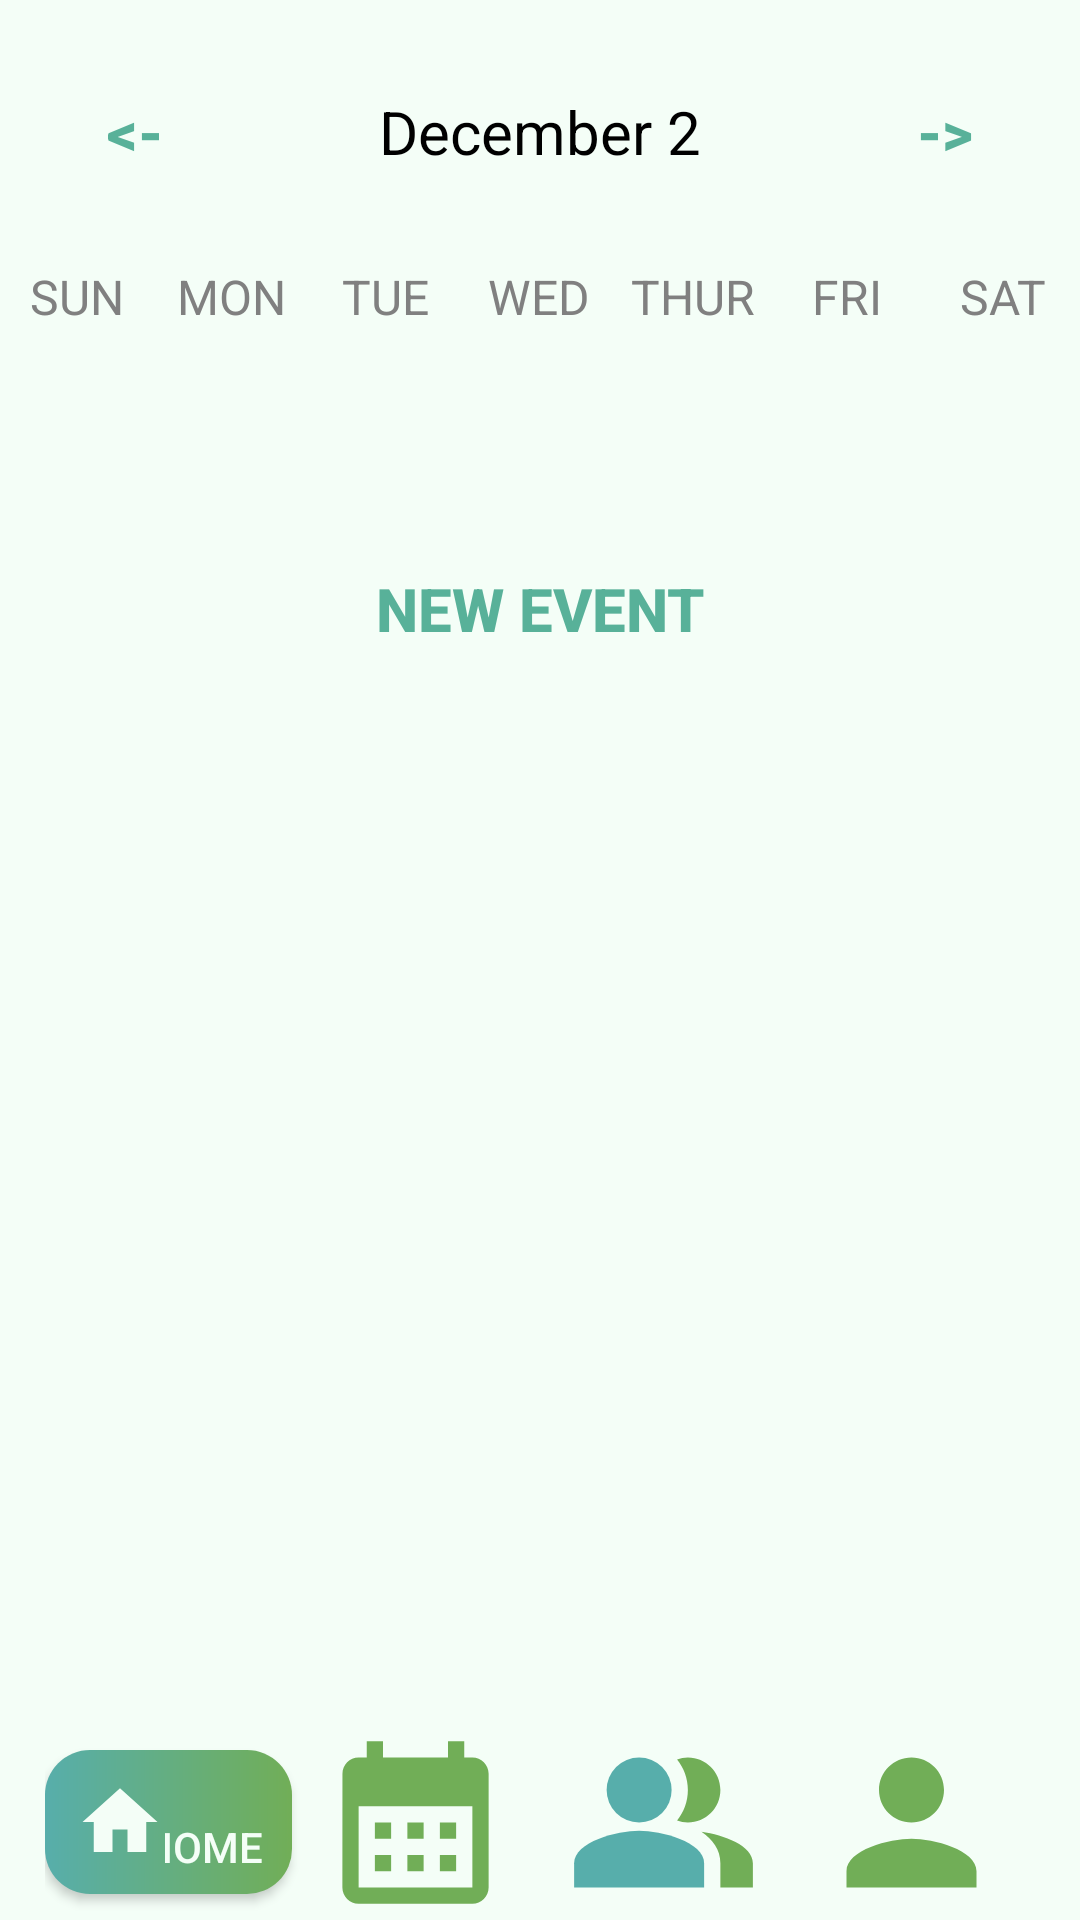

Named icons in this screenshot (1080×1920) and their centers, point (x, y):
calendar: point (415, 1822)
person: point (911, 1822)
